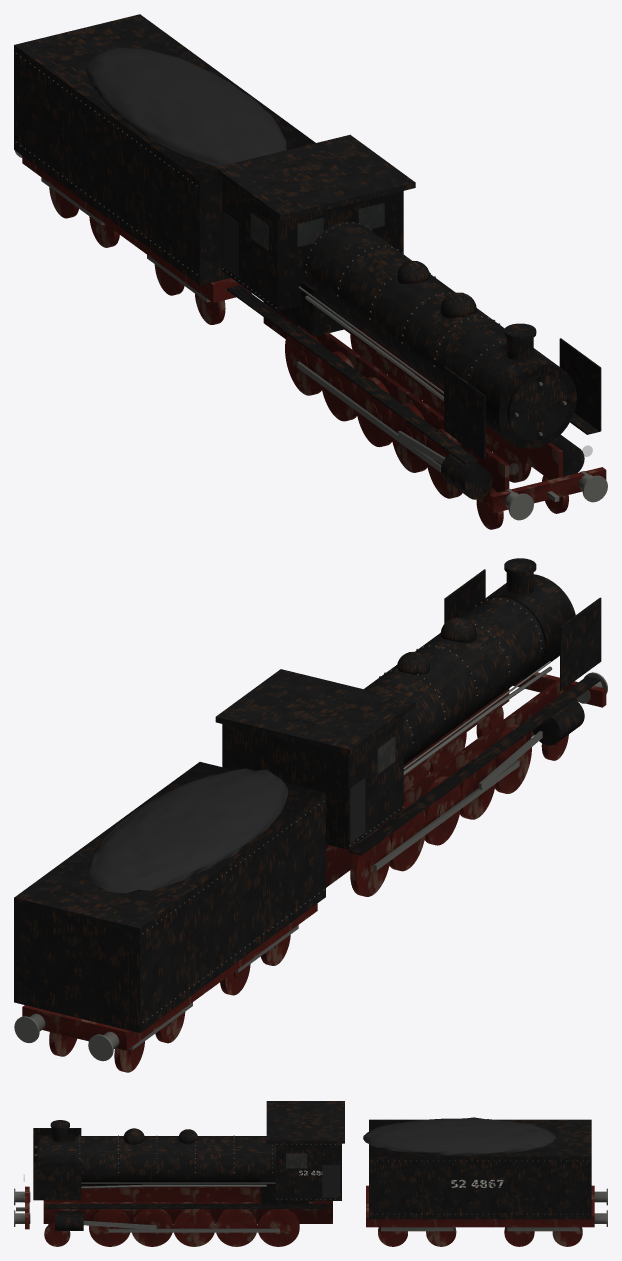
The model's file is locomotive.glb.
3 views of the same model, one above another, from view 1: azimuth 30°, elevation 25°; view 2: azimuth 150°, elevation 25°; view 3: azimuth 270°, elevation 25° (orthographic). The views are drawn at different scales.
Visible parts, largest first — view 1: Locomotive, Tender, DriveWheels; view 2: Tender, Locomotive, DriveWheels; view 3: Locomotive, Tender, DriveWheels.
Boxes of the visible parts, x1,y1,x2,y2 form: Locomotive: (215, 134, 607, 520); Tender: (14, 14, 315, 324); DriveWheels: (285, 326, 568, 529); Tender: (14, 762, 325, 1072); Locomotive: (215, 558, 607, 887); DriveWheels: (326, 707, 568, 896); Locomotive: (14, 1101, 344, 1230); Tender: (363, 1117, 607, 1246); DriveWheels: (44, 1209, 299, 1246).
Bounding box in the file's own units: 3.1 × 4.24 × 19.73.
6 materials, 3 textured.
